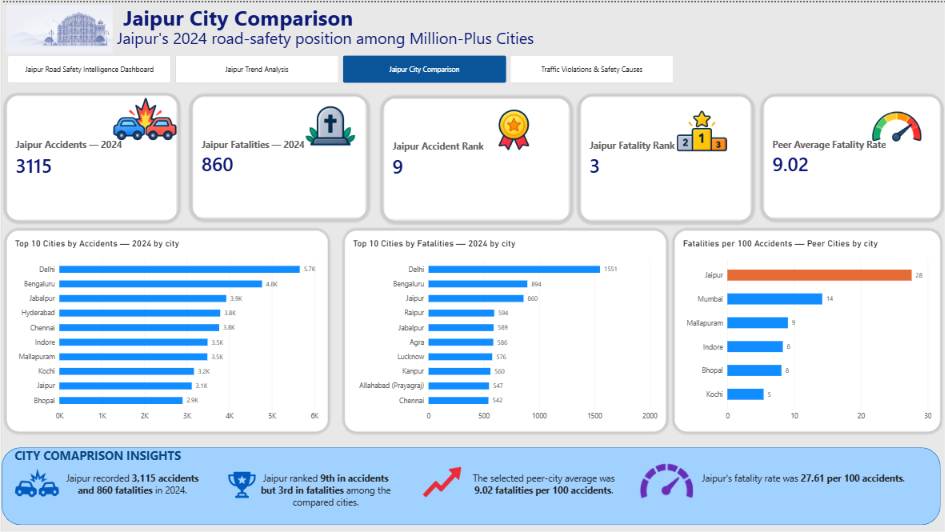

The page's visual inventory and layout, read from the dashboard file:
{"tool":"powerbi","page":{"name":"Jaipur City Comparison","canvas":[1920,1080],"ordinal":2},"visuals":[{"type":"barChart","fields":{"Category":["top10_city_accident_trend_2020_2024.city"],"Y":["Sum(top10_city_accident_trend_2020_2024.accidents_2024)"]},"box":[10.3,461.1,650.4,407.5],"z":0},{"type":"clusteredBarChart","fields":{"Category":["top10_city_fatality_trend_2020_2024.city"],"Y":["Sum(top10_city_fatality_trend_2020_2024.fatalities_2024)"]},"box":[693.7,461.1,650.4,407.5],"z":1000},{"type":"cardVisual","fields":{"Data":["Avg(city_accidents_2023_2024.accident_rank_calculated)"]},"box":[773.9,193.5,376.7,247],"z":2000},{"type":"cardVisual","fields":{"Data":["Sum(city_accidents_2023_2024.fatality_rank_calculated)"]},"box":[1171.2,189.4,345.8,251.1],"z":3000},{"type":"clusteredBarChart","fields":{"Category":["jaipur_peer_comparison_2024.city","city_accidents_2023_2024.city"],"Y":["Sum(jaipur_peer_comparison_2024.fatalities_per_100_accidents_2024)"]},"box":[1362.6,461.1,537.2,407.5],"z":4000},{"type":"cardVisual","fields":{"Data":["Avg(jaipur_peer_comparison_2024.fatalities_per_100_accidents_2024)"]},"box":[1541.7,189.4,358.1,247],"z":5000},{"type":"cardVisual","fields":{"Data":["Sum(jaipur_peer_comparison_2024.accidents_2024)"]},"box":[10.3,187.3,345.8,253.2],"z":6000},{"type":"cardVisual","fields":{"Data":["Sum(jaipur_peer_comparison_2024.fatalities_2024)"]},"box":[387,189.4,352,247],"z":7000},{"type":"textbox","box":[10.3,0,948.9,72],"z":8000},{"type":"textbox","box":[1500,433,376,210],"z":9000},{"type":"textbox","box":[10.3,51.5,1290.6,78.2],"z":10000},{"type":"pageNavigator","box":[12.1,107.3,1351.8,56.7],"z":11000},{"type":"image","box":[10.3,0,214.1,107],"z":12000},{"type":"shape","box":[0,900,1900,157.1],"z":13000},{"type":"image","box":[26.8,930.4,90.6,82.3],"z":14000},{"type":"textbox","box":[117.3,948.9,294.3,63.8],"z":14001},{"type":"image","box":[422,948.9,127.6,55.6],"z":14002},{"type":"textbox","box":[520.4,949,271.4,108.2],"z":14003},{"type":"image","box":[834.7,938.8,114.3,63.3],"z":14004},{"type":"textbox","box":[949,949,295.9,63.3],"z":14005},{"type":"image","box":[1275.5,932.7,140.8,71.4],"z":14006},{"type":"textbox","box":[1344.9,949,553.1,53.1],"z":14007},{"type":"image","box":[224.5,189.8,130.6,91.8],"z":14008},{"type":"image","box":[587.8,193.9,151,118.4],"z":14009},{"type":"image","box":[949,206.1,187.8,93.9],"z":14010},{"type":"image","box":[1363.3,206.1,136.7,106.1],"z":14011},{"type":"image","box":[1751,198,146.9,102],"z":14012},{"type":"textbox","box":[26.3,900.5,637.4,48.6],"z":14013}]}

Visuals, with their boxes in screenshot pixels (x1, y1, x2, y2), scaled from the page's 1920x1080 canvas onto the 945x532 screenshot:
barChart - top10_city_accident_trend_2020_2024.city x Sum(top10_city_accident_trend_2020_2024.accidents_2024): 5/227/325/428
clusteredBarChart - top10_city_fatality_trend_2020_2024.city x Sum(top10_city_fatality_trend_2020_2024.fatalities_2024): 341/227/662/428
cardVisual - Avg(city_accidents_2023_2024.accident_rank_calculated): 381/95/566/217
cardVisual - Sum(city_accidents_2023_2024.fatality_rank_calculated): 576/93/747/217
clusteredBarChart - jaipur_peer_comparison_2024.city x city_accidents_2023_2024.city: 671/227/935/428
cardVisual - Avg(jaipur_peer_comparison_2024.fatalities_per_100_accidents_2024): 759/93/935/215
cardVisual - Sum(jaipur_peer_comparison_2024.accidents_2024): 5/92/175/217
cardVisual - Sum(jaipur_peer_comparison_2024.fatalities_2024): 190/93/364/215
textbox: 5/0/472/35
textbox: 738/213/923/317
textbox: 5/25/640/64
pageNavigator: 6/53/671/81
image: 5/0/110/53
shape: 0/443/935/521
image: 13/458/58/499
textbox: 58/467/203/499
image: 208/467/271/495
textbox: 256/467/390/521
image: 411/462/467/494
textbox: 467/467/613/499
image: 628/459/697/495
textbox: 662/467/934/494
image: 110/93/175/139
image: 289/96/364/154
image: 467/102/560/148
image: 671/102/738/154
image: 862/98/934/148
textbox: 13/444/327/468
